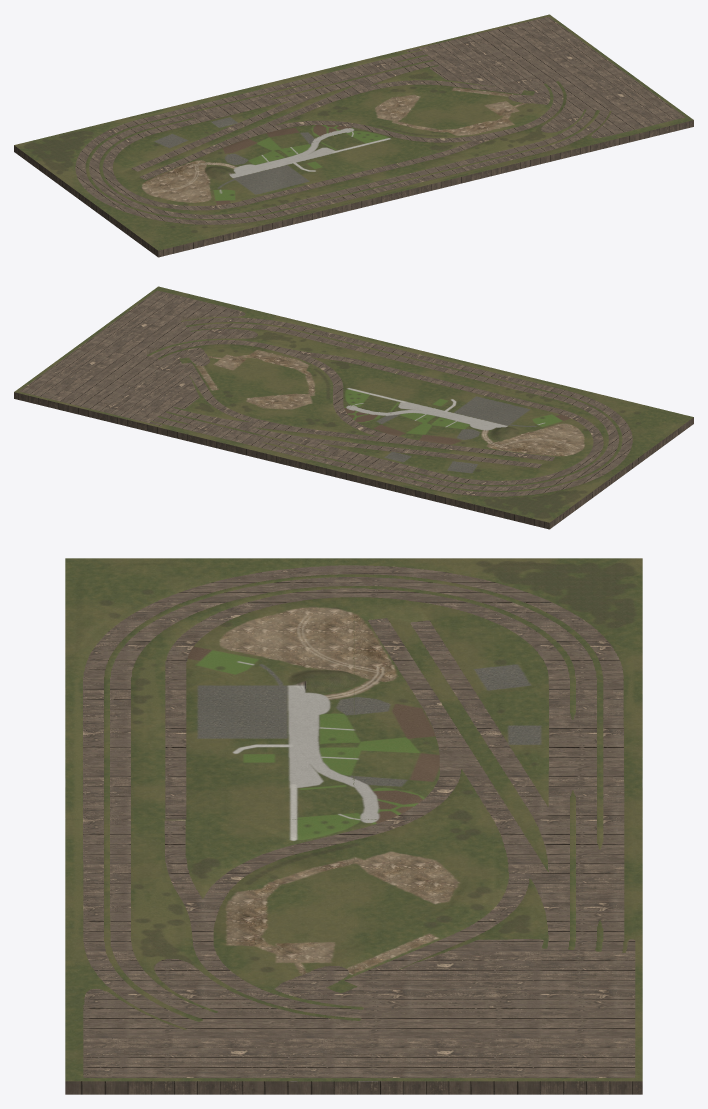
File: terrain.glb
3 renders of one model, top to bottom at view 1: azimuth 30°, elevation 25°; view 2: azimuth 150°, elevation 25°; view 3: azimuth 270°, elevation 25°, orthographic. The views are drawn at different scales.
Parts seen in each view (by area): view 1: BASE_board_1500x700, TERRAIN_valley_10, TERRAIN_valley_00, TERRAIN_valley_11, TERRAIN_valley_01; view 2: BASE_board_1500x700, TERRAIN_valley_10, TERRAIN_valley_00, TERRAIN_valley_11, TERRAIN_valley_01; view 3: BASE_board_1500x700, TERRAIN_valley_10, TERRAIN_valley_00, TERRAIN_valley_11, TERRAIN_valley_01.
Part boxes in pixels (left/top/right/bottom): BASE_board_1500x700: left=14, top=16, right=693, bottom=257; TERRAIN_valley_10: left=86, top=132, right=425, bottom=250; TERRAIN_valley_00: left=14, top=80, right=353, bottom=197; TERRAIN_valley_11: left=354, top=67, right=693, bottom=185; TERRAIN_valley_01: left=282, top=14, right=621, bottom=132; BASE_board_1500x700: left=14, top=290, right=693, bottom=529; TERRAIN_valley_10: left=354, top=352, right=693, bottom=469; TERRAIN_valley_00: left=282, top=405, right=621, bottom=522; TERRAIN_valley_11: left=86, top=286, right=425, bottom=404; TERRAIN_valley_01: left=14, top=339, right=353, bottom=457; BASE_board_1500x700: left=65, top=565, right=642, bottom=1094; TERRAIN_valley_10: left=65, top=558, right=354, bottom=820; TERRAIN_valley_00: left=352, top=558, right=642, bottom=820; TERRAIN_valley_11: left=65, top=819, right=355, bottom=1081; TERRAIN_valley_01: left=353, top=819, right=642, bottom=1081.
Size of the model in its own units: 1.5 by 0.0329 by 0.7.
Materials: 5 (5 with a texture image).
